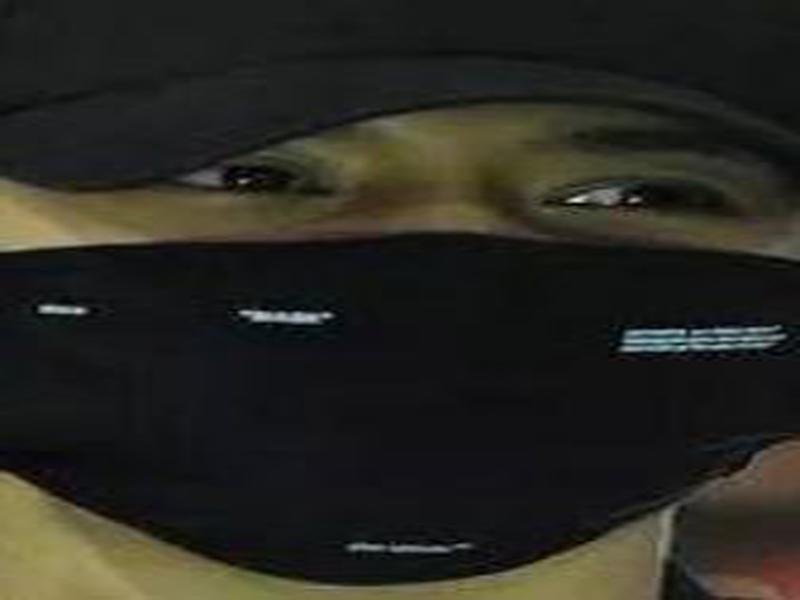with_mask: (1, 94, 793, 600)
